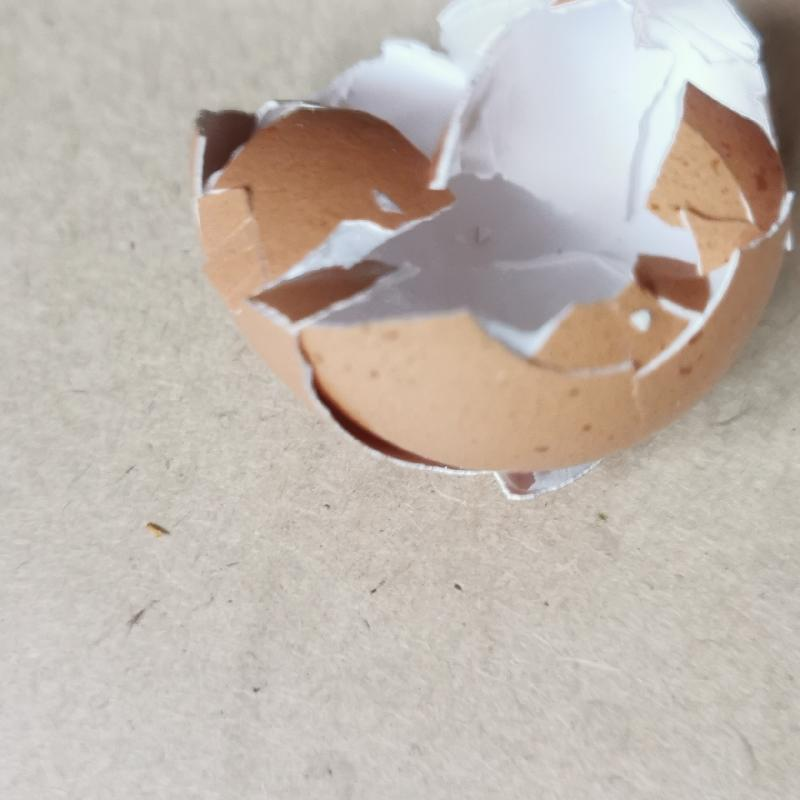eggshell: (185, 1, 793, 499)
